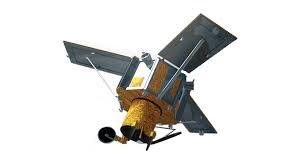antenna: (150, 131, 182, 145), (97, 126, 116, 144)
body: (117, 56, 187, 126)
solar: (157, 12, 238, 74), (62, 40, 132, 77), (181, 94, 218, 134)
thruster: (140, 51, 154, 68)
